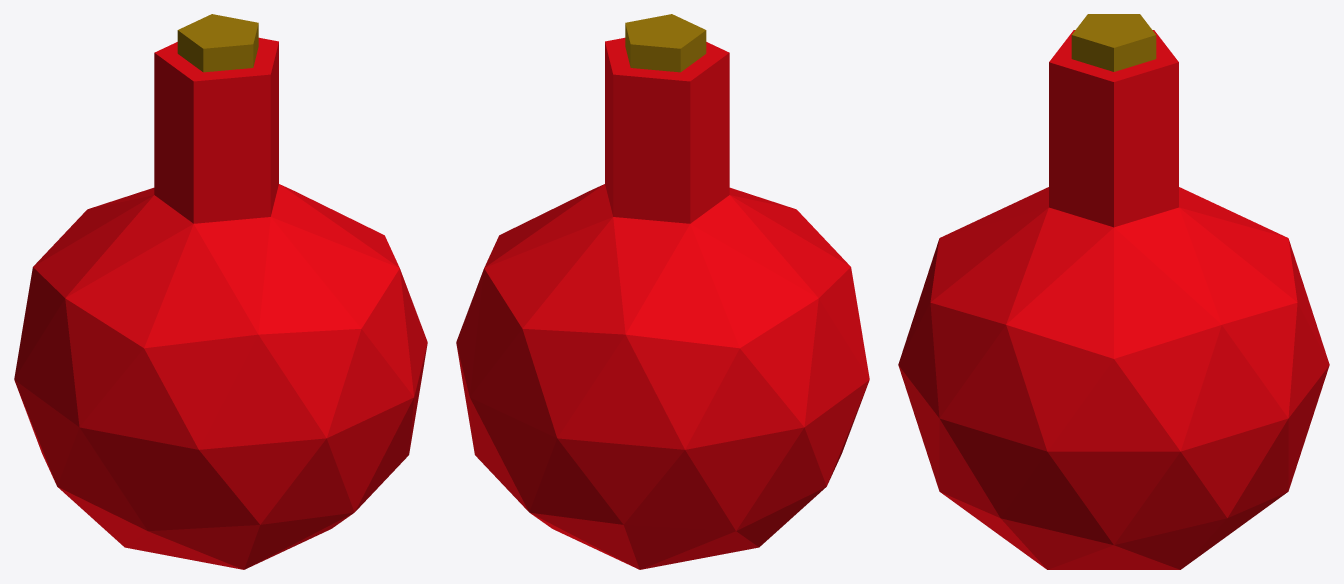
File: PotionTesting.glb
3 renders of one model, left to right at view 1: azimuth 30°, elevation 25°; view 2: azimuth 150°, elevation 25°; view 3: azimuth 270°, elevation 25°, orthographic. The views are drawn at different scales.
Parts seen in each view (by area): view 1: Icosphere; view 2: Icosphere; view 3: Icosphere.
Part boxes in pixels (x1,y1,x2,y2): Icosphere: [14, 14, 427, 569]; Icosphere: [456, 14, 869, 569]; Icosphere: [898, 14, 1329, 569].
Size of the model in its own units: 1.9 by 2.72 by 2.
